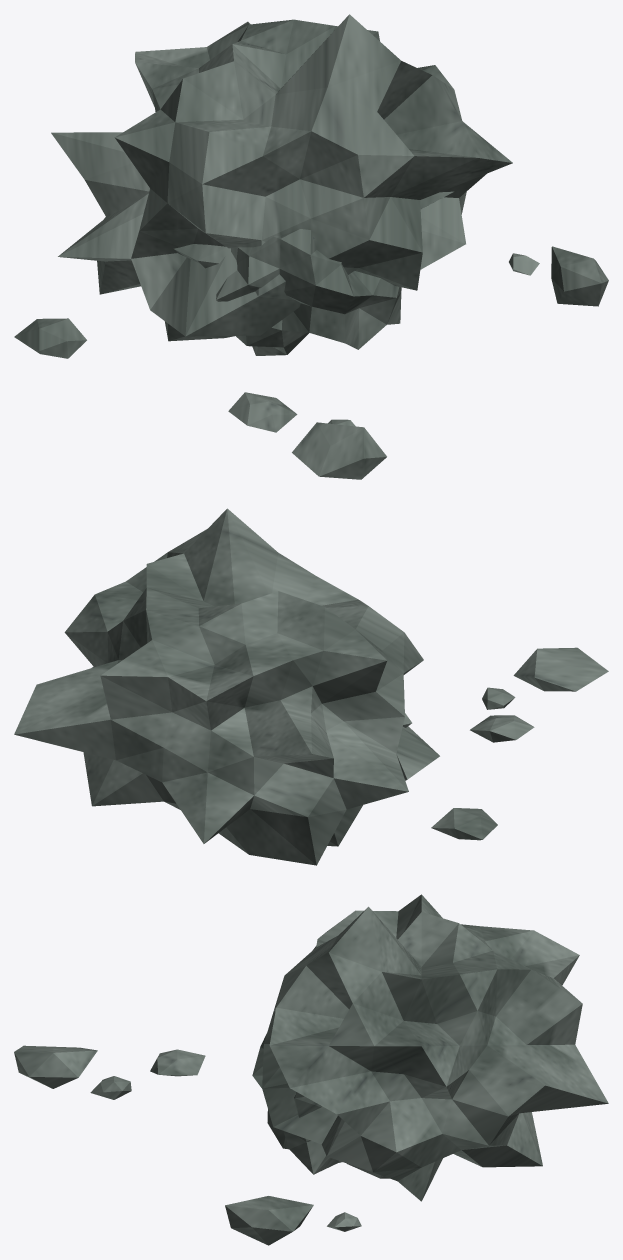
The model's file is 0025_boulder_25.glb.
3 renders of one model, top to bottom at view 1: azimuth 30°, elevation 25°; view 2: azimuth 150°, elevation 25°; view 3: azimuth 270°, elevation 25°, orthographic. The views are drawn at different scales.
Parts seen in each view (by area): view 1: stone; view 2: stone; view 3: stone.
Boxes of the visible parts, left/top/right/bottom form: stone: left=14, top=14, right=608, bottom=479; stone: left=14, top=508, right=608, bottom=865; stone: left=14, top=894, right=608, bottom=1245.
Size of the model in its own units: 2.68 by 1.63 by 3.03.
Materials: 2 (2 with a texture image).
